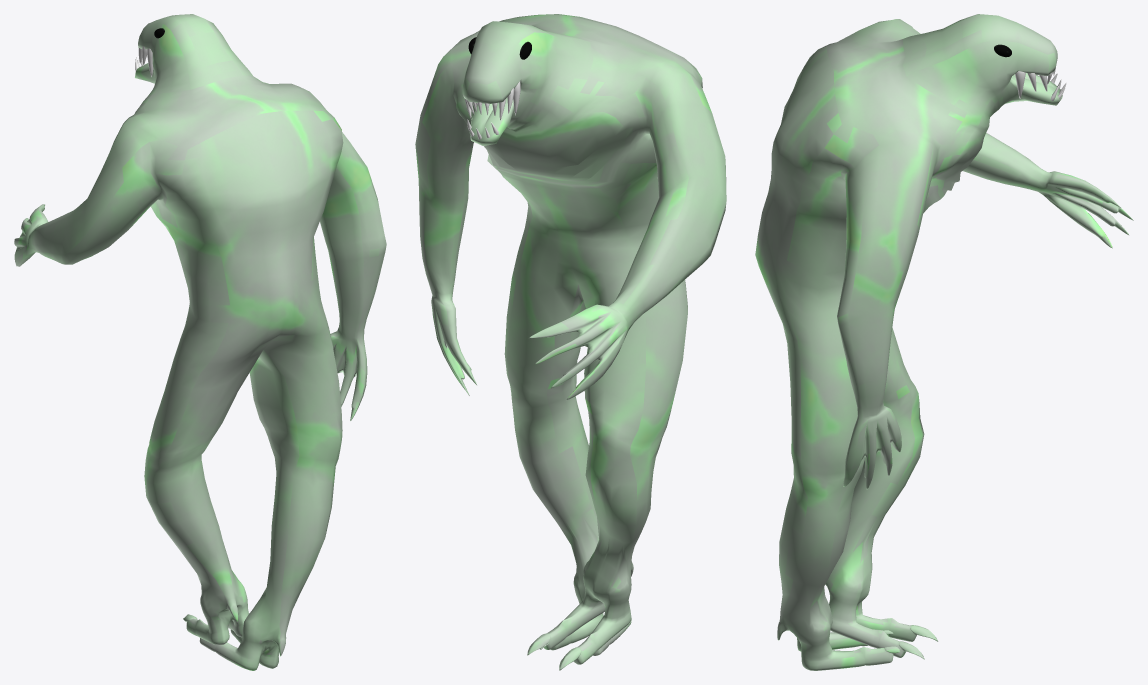
File: Berserkerandar.0039.obj
3 views of the same model, side by side, from view 1: azimuth 30°, elevation 25°; view 2: azimuth 150°, elevation 25°; view 3: azimuth 270°, elevation 25° (orthographic). The views are drawn at different scales.
Parts seen in each view (by area): view 1: polySurface27; view 2: polySurface27; view 3: polySurface27.
Part boxes in pixels (x1,y1,x2,y2): polySurface27: (14, 14, 386, 670); polySurface27: (415, 14, 726, 670); polySurface27: (755, 14, 1133, 670).
Size of the model in its own units: 11.79 by 23.52 by 12.45.
Materials: 1 (1 with a texture image).
